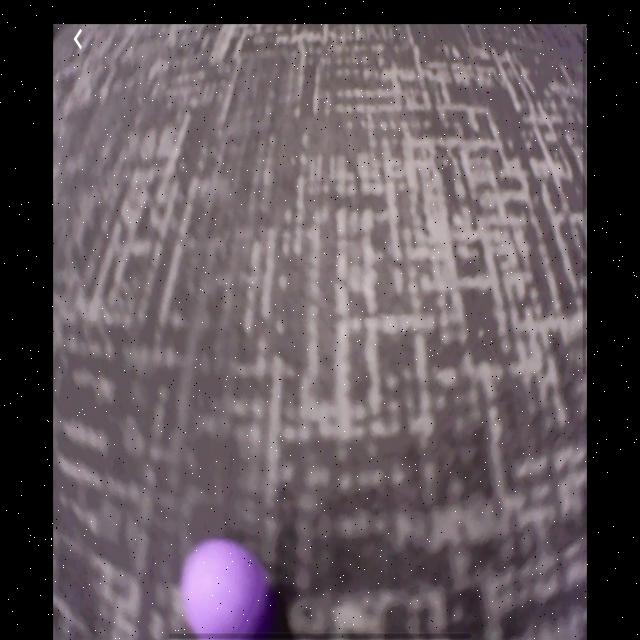ball: (183, 537, 264, 640)
